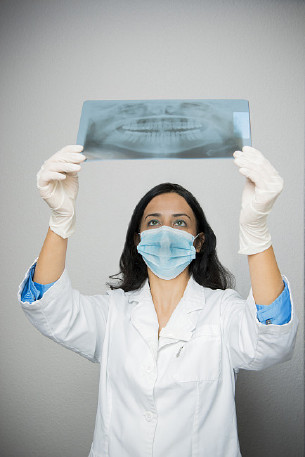face_mask: (139, 190, 196, 280)
